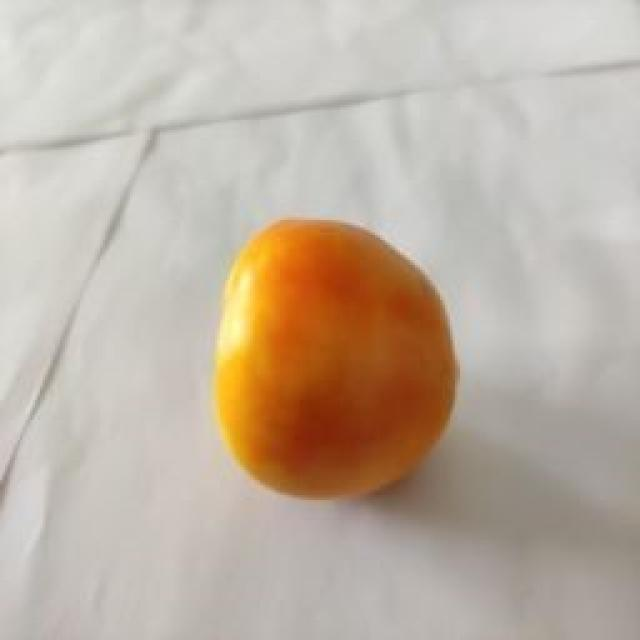unripe: (282, 195, 472, 447)
